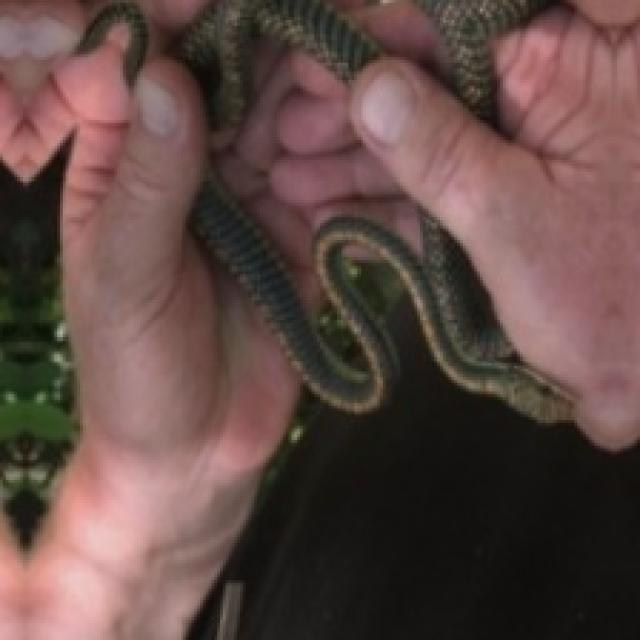paradise tree snake: (191, 172, 571, 422), (176, 0, 380, 129), (418, 0, 554, 122), (80, 2, 149, 79)
